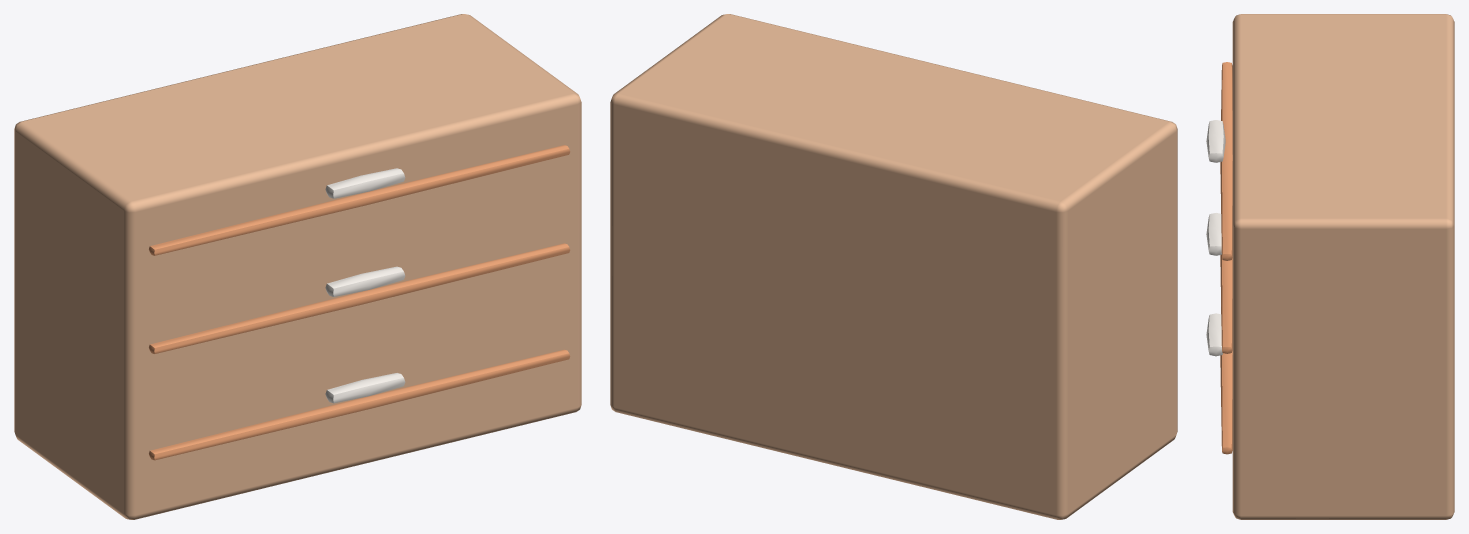
The model's file is cabinet.glb.
The picture shows the model from 3 angles, left to right: view 1: azimuth 30°, elevation 25°; view 2: azimuth 150°, elevation 25°; view 3: azimuth 270°, elevation 25°; orthographic projection. The views are drawn at different scales.
Visible parts, largest first — view 1: part (×7); view 2: part; view 3: part (×7).
Boxes of the visible parts, x1=… form: part (×7): x1=14, y1=14, x2=581, y2=519; part: x1=610, y1=14, x2=1177, y2=519; part (×7): x1=1206, y1=14, x2=1454, y2=519.
Size of the model in its own units: 1.8 by 1.2 by 0.895.
Materials: 1 (1 with a texture image).
